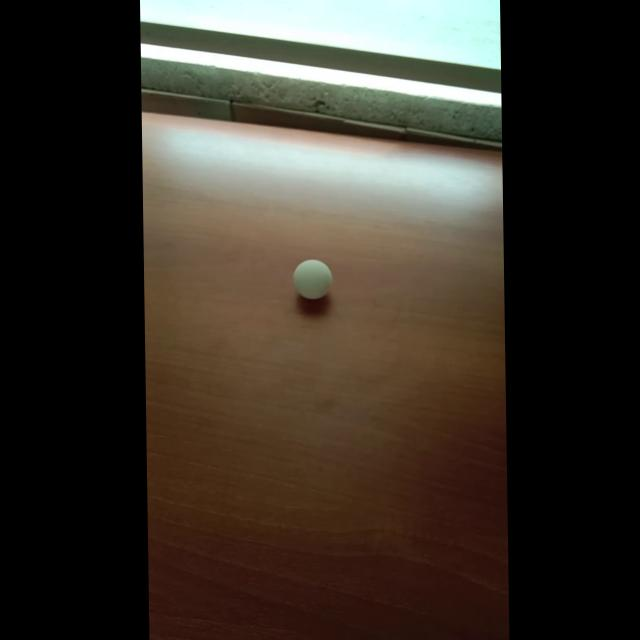white ball: (292, 258, 332, 300)
